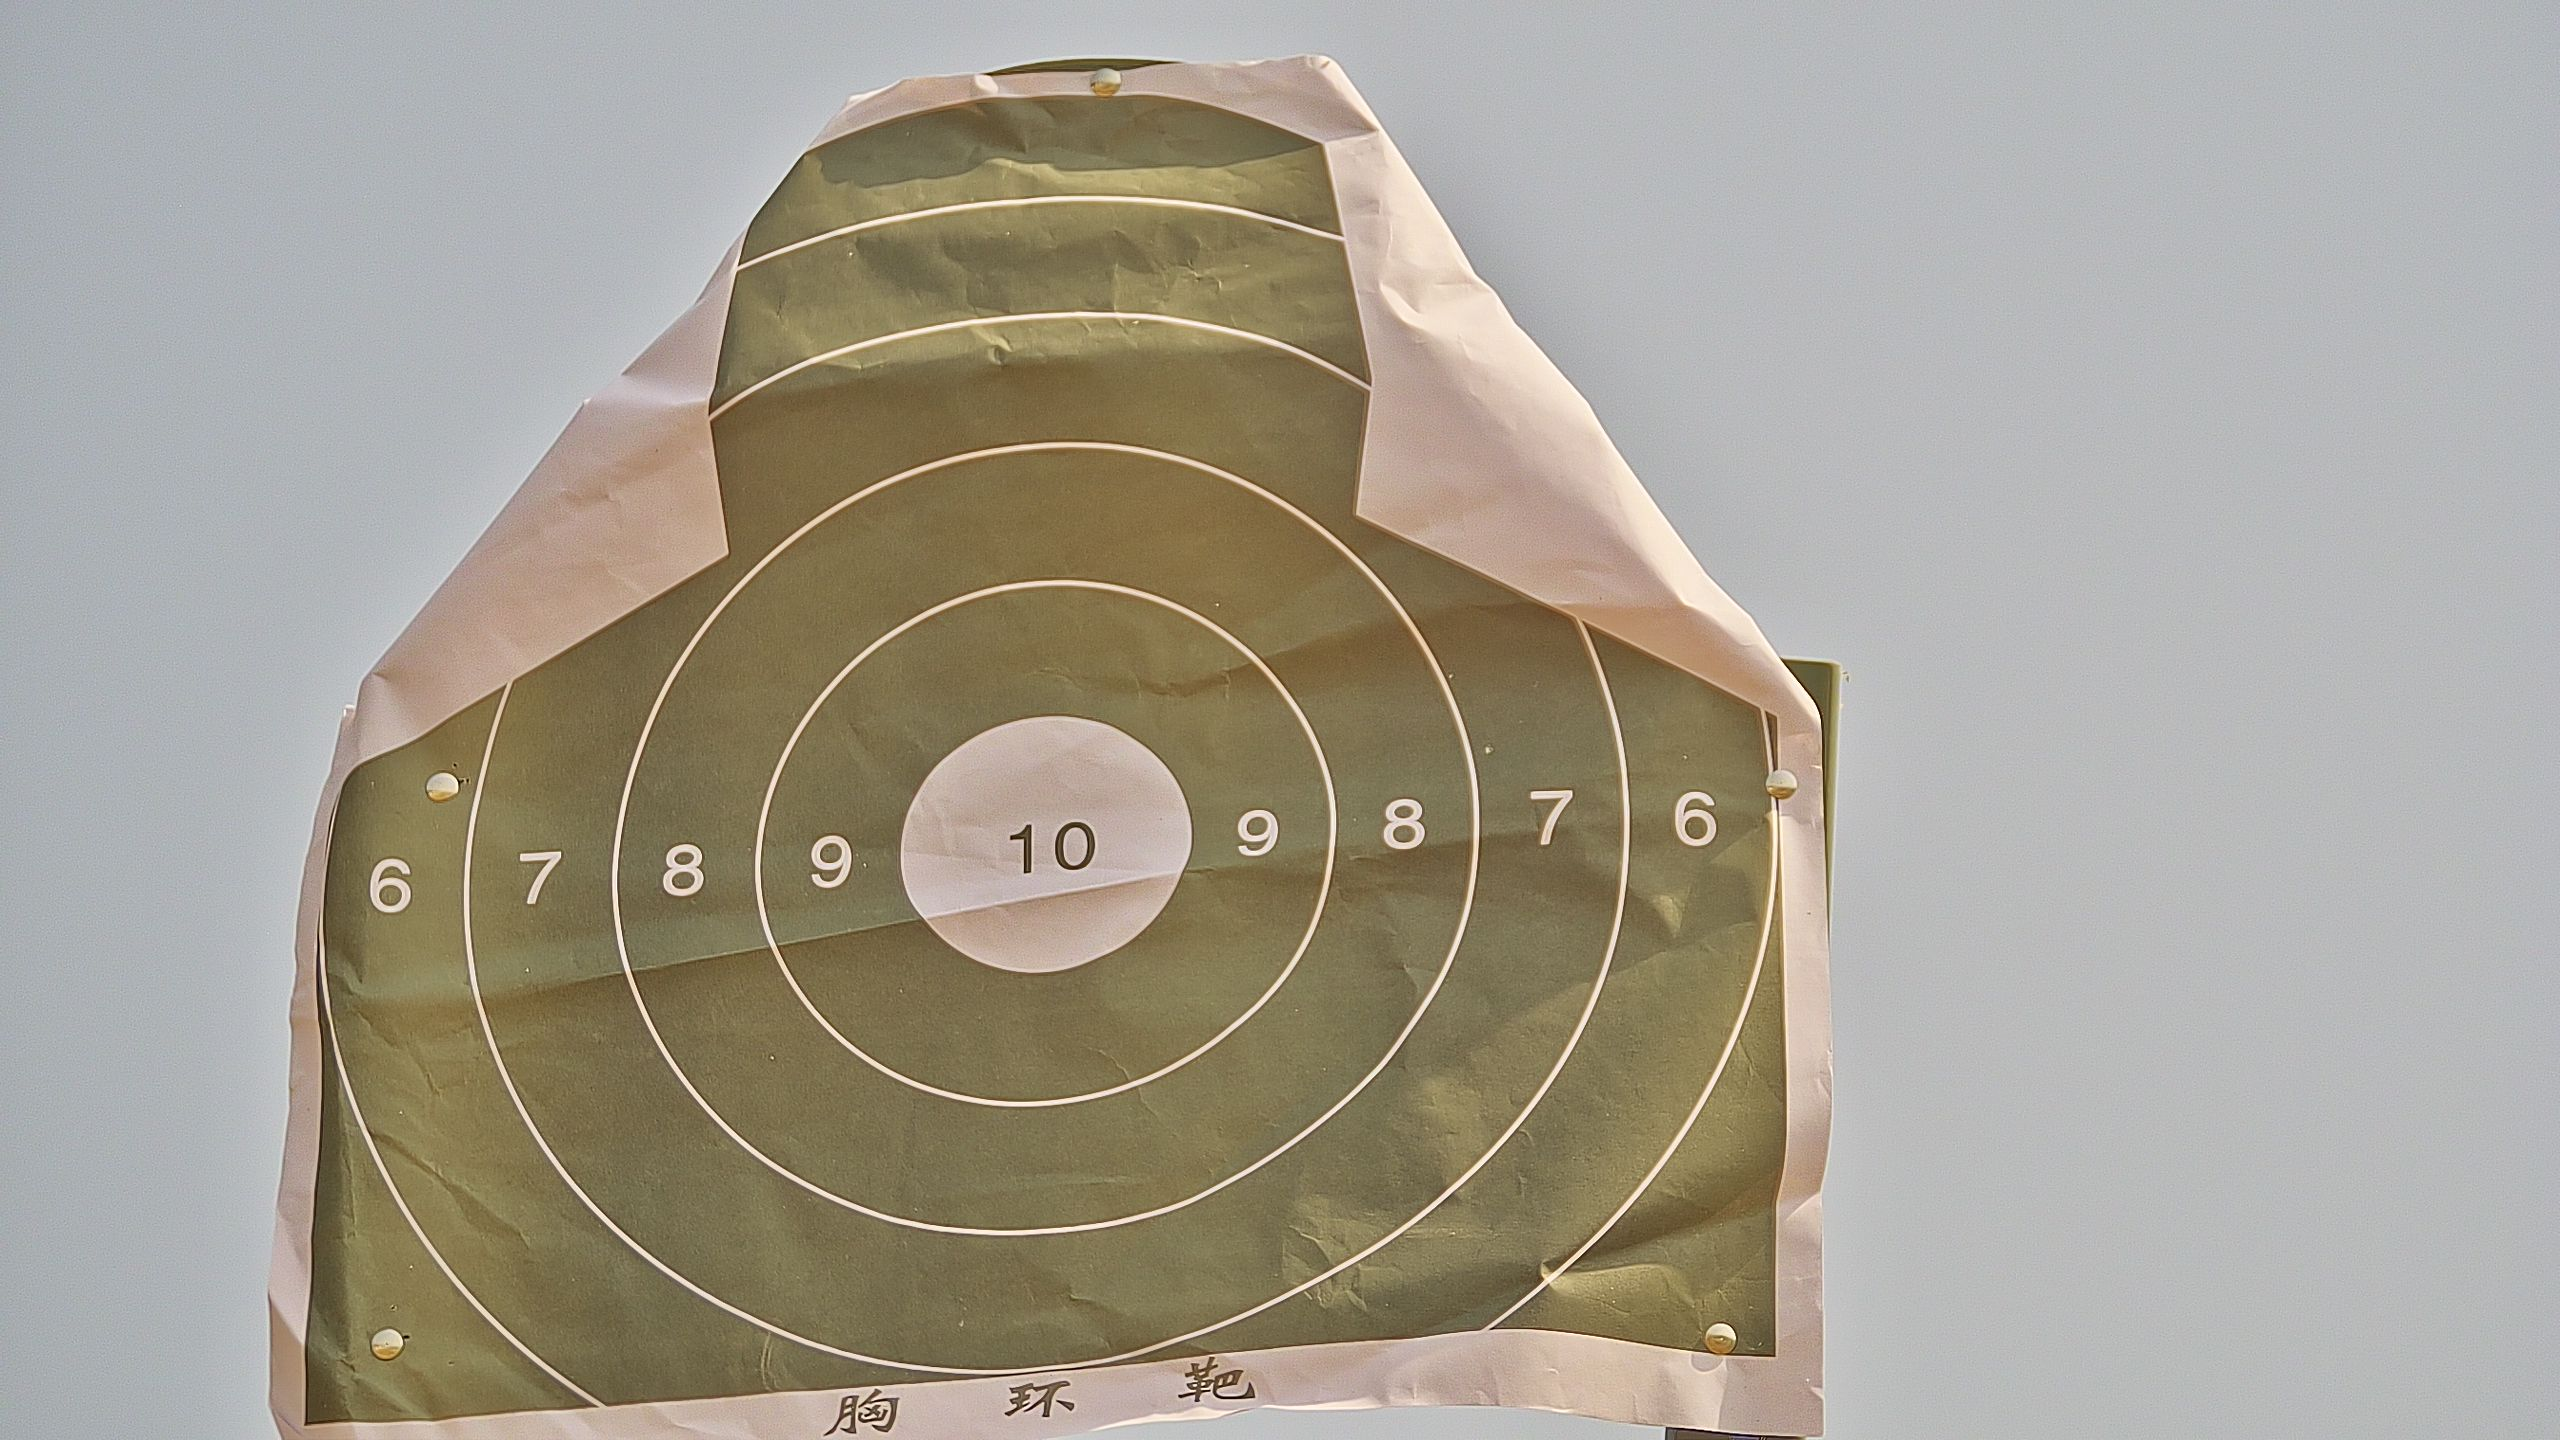kernel: (1044, 851, 1053, 855)
target: (295, 100, 1793, 1422)
ten: (898, 712, 1194, 978)
